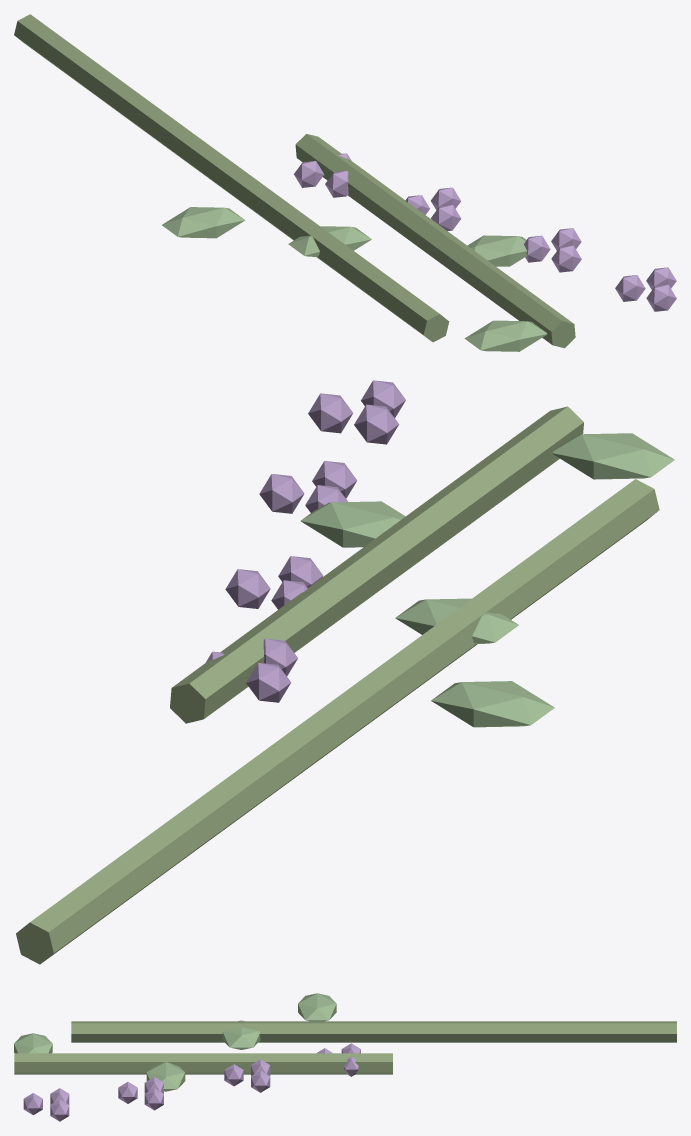
File: wisteria.glb
3 views of the same model, one above another, from view 1: azimuth 30°, elevation 25°; view 2: azimuth 150°, elevation 25°; view 3: azimuth 270°, elevation 25° (orthographic). The views are drawn at different scales.
Visible parts, largest first — view 1: world; view 2: world; view 3: world.
Boxes of the visible parts, x1=… form: world: x1=14, y1=14, x2=676, y2=351; world: x1=16, y1=380, x2=674, y2=964; world: x1=14, y1=993, x2=676, y2=1121.
Bounding box in the file's own units: 0.7421 × 0.0598 × 1.75.
